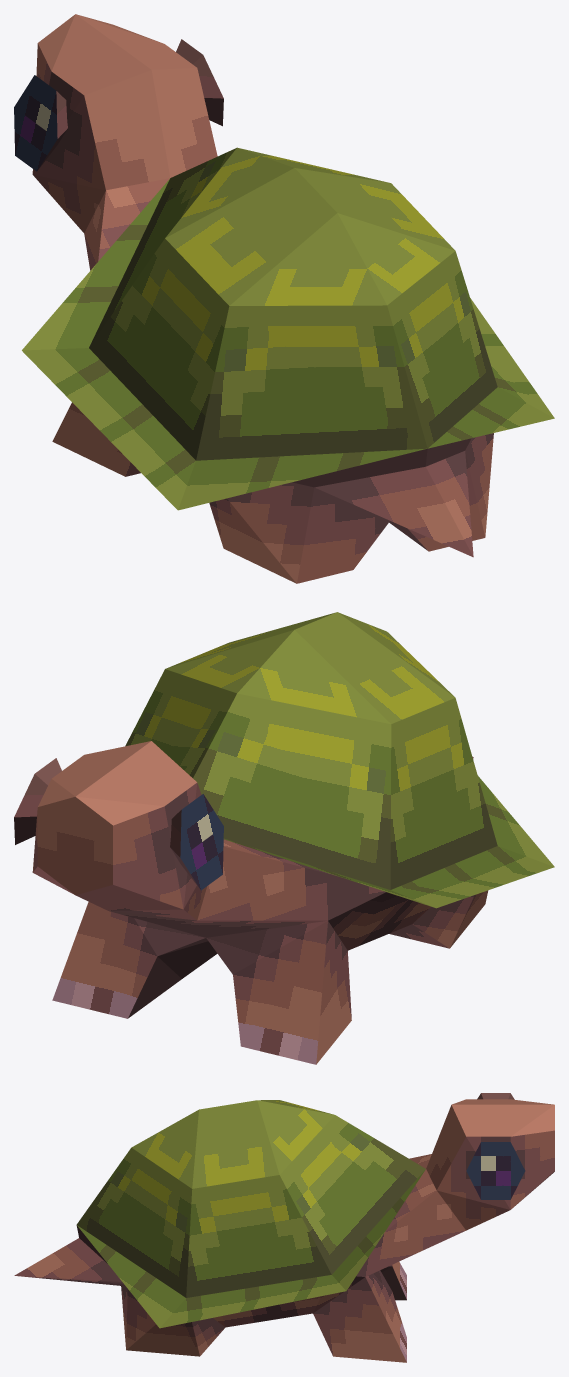
The model's file is turtle.fbx.
The picture shows the model from 3 angles, top to bottom: view 1: azimuth 30°, elevation 25°; view 2: azimuth 150°, elevation 25°; view 3: azimuth 270°, elevation 25°; orthographic projection. The views are drawn at different scales.
Parts seen in each view (by area): view 1: Turtle; view 2: Turtle; view 3: Turtle.
Part boxes in pixels (x1,y1,x2,y2): Turtle: (14,14,554,583); Turtle: (14,612,554,1064); Turtle: (14,1093,554,1362).
Size of the model in its own units: 68.75 by 51.04 by 114.
Materials: 1 (1 with a texture image).
